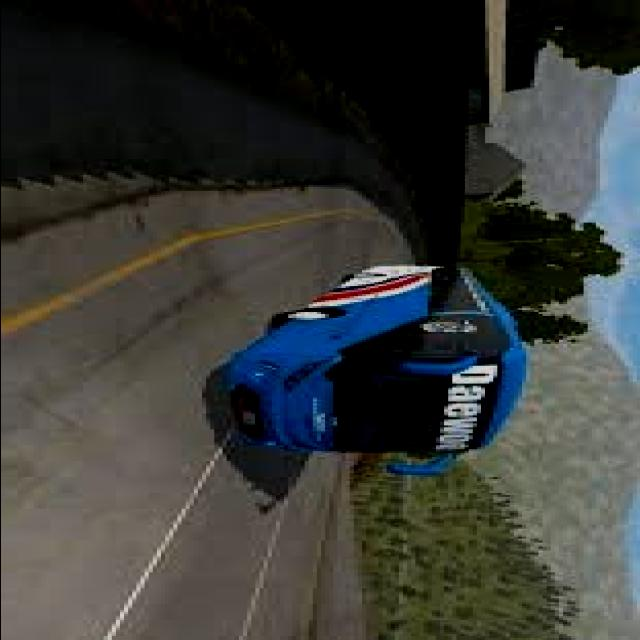bus: (179, 255, 537, 481)
